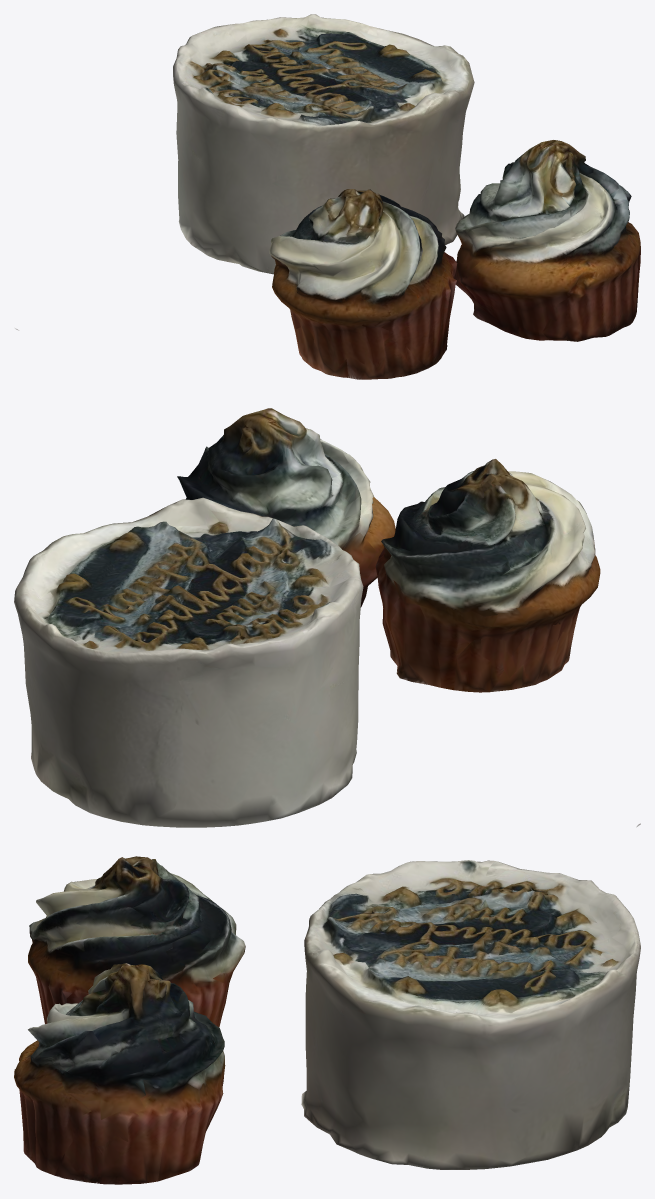
File: asset.glb
3 renders of one model, top to bottom at view 1: azimuth 30°, elevation 25°; view 2: azimuth 150°, elevation 25°; view 3: azimuth 270°, elevation 25°, orthographic. The views are drawn at different scales.
Visible parts, largest first — view 1: Mesh_0; view 2: Mesh_0; view 3: Mesh_0.
Boxes of the visible parts, x1=… form: Mesh_0: x1=15, y1=14, x2=640, y2=379; Mesh_0: x1=14, y1=408, x2=640, y2=827; Mesh_0: x1=14, y1=856, x2=640, y2=1184.
Bounding box in the file's own units: 1.01 × 0.3218 × 0.9604.
Materials: 1 (1 with a texture image).
